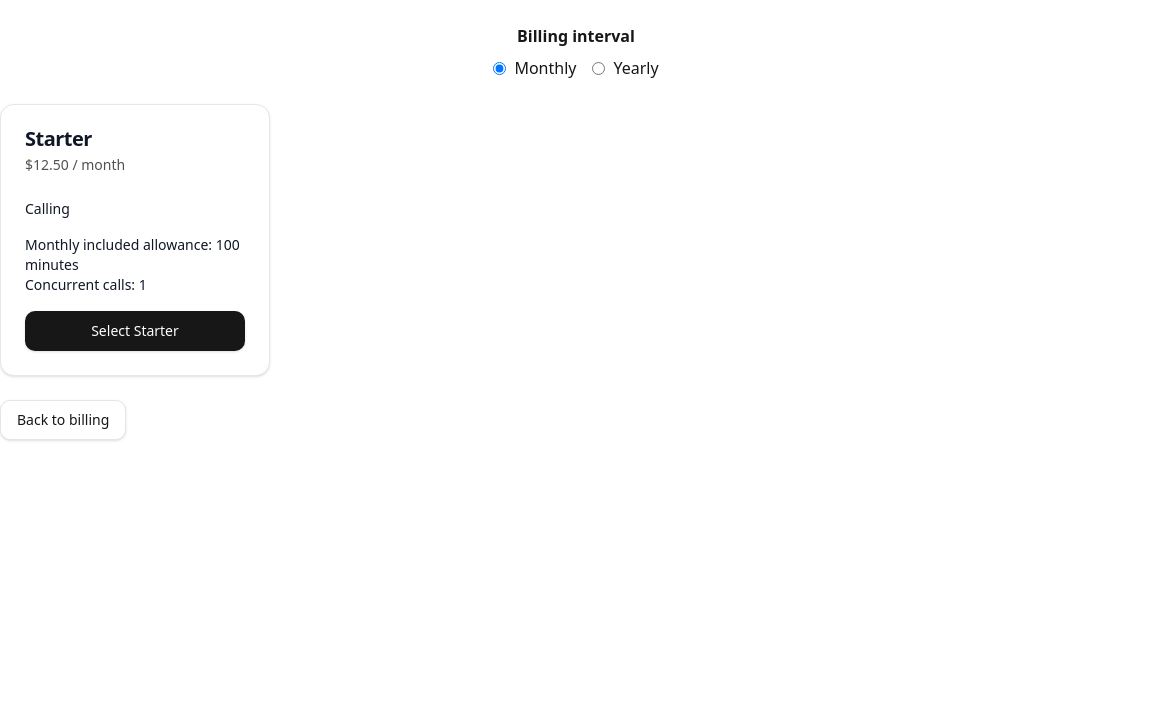
only the typed pre-provider rejection unlocks a saved purchase
Click the button "Select Starter".
click(135, 331)  # box x1=25 y1=311 x2=245 y2=351
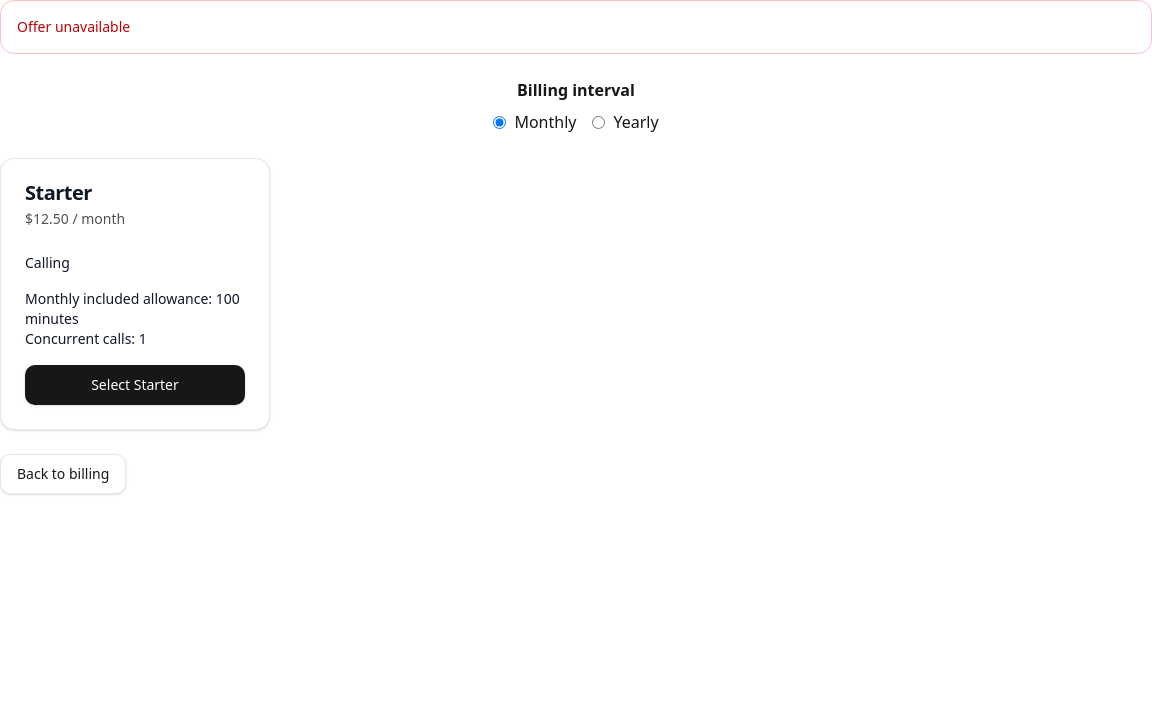
Now the text "Offer unavailable" is shown, box x1=0 y1=0 x2=1151 y2=54
